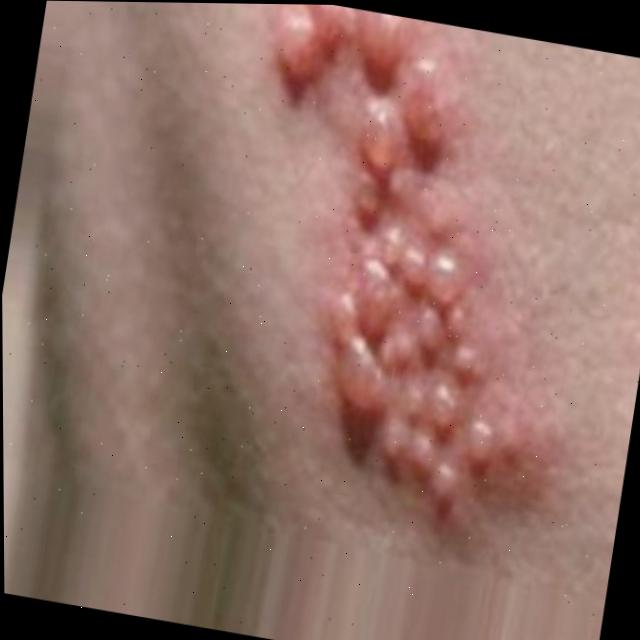Shingles: (196, 3, 582, 524)
